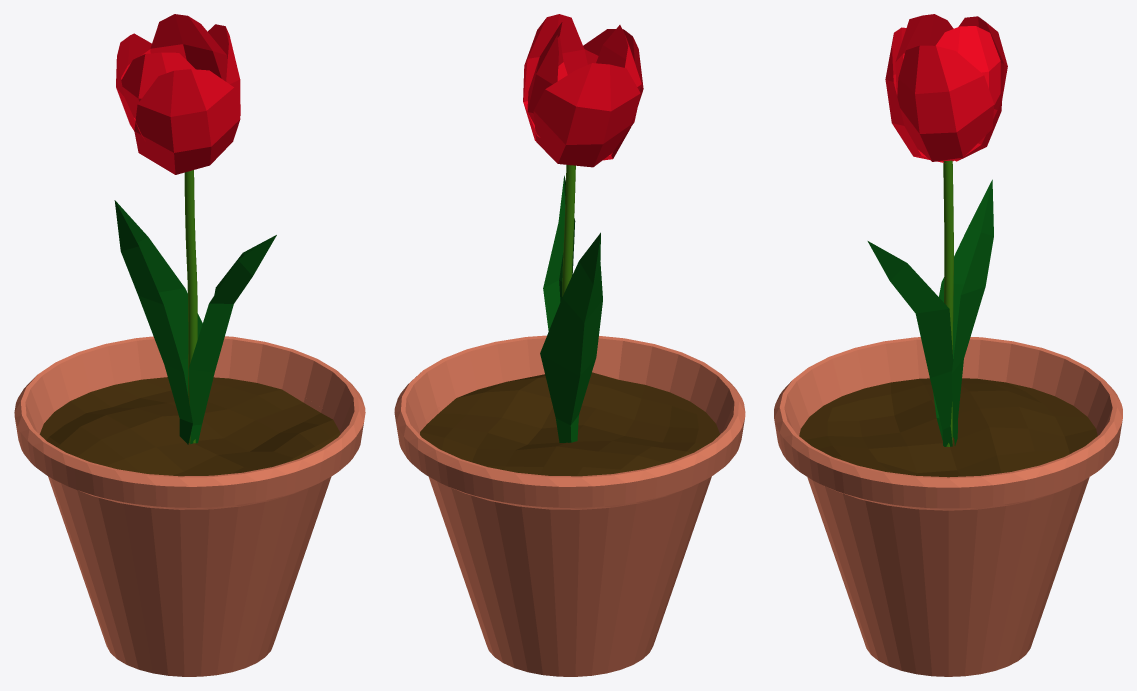
File: flower_state_bad2.glb
The picture shows the model from 3 angles, left to right: view 1: azimuth 30°, elevation 25°; view 2: azimuth 150°, elevation 25°; view 3: azimuth 270°, elevation 25°; orthographic projection.
Visible parts, largest first — view 1: Pot, Dirt, Bulb, Leafs, Stem; view 2: Pot, Dirt, Bulb, Leafs, Stem; view 3: Pot, Dirt, Bulb, Leafs, Stem.
Boxes of the visible parts, bbox=[...] form: Pot: bbox=[14, 336, 365, 676]; Dirt: bbox=[39, 377, 340, 476]; Bulb: bbox=[116, 14, 240, 174]; Leafs: bbox=[114, 200, 276, 444]; Stem: bbox=[184, 170, 197, 443]; Pot: bbox=[394, 335, 745, 676]; Dirt: bbox=[420, 372, 719, 476]; Bulb: bbox=[523, 14, 643, 167]; Leafs: bbox=[540, 175, 602, 442]; Stem: bbox=[562, 165, 575, 296]; Pot: bbox=[774, 337, 1122, 676]; Dirt: bbox=[799, 378, 1097, 477]; Bulb: bbox=[885, 14, 1007, 163]; Leafs: bbox=[867, 179, 993, 446]; Stem: bbox=[943, 160, 953, 446].
Size of the model in its own units: 2.16 by 4.21 by 2.16.
